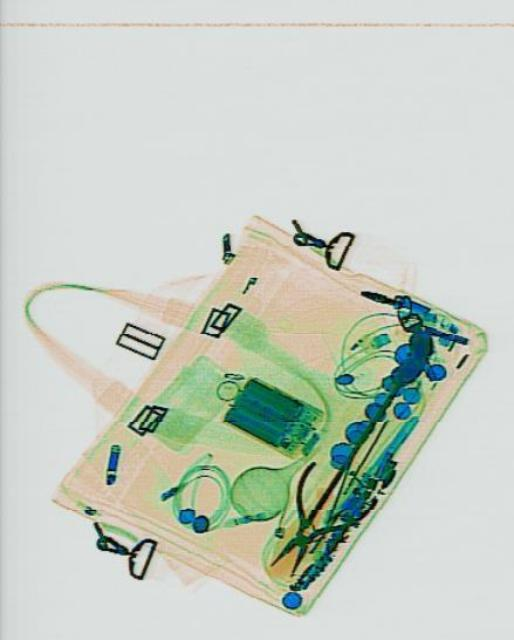Pliers: (246, 442, 378, 598)
